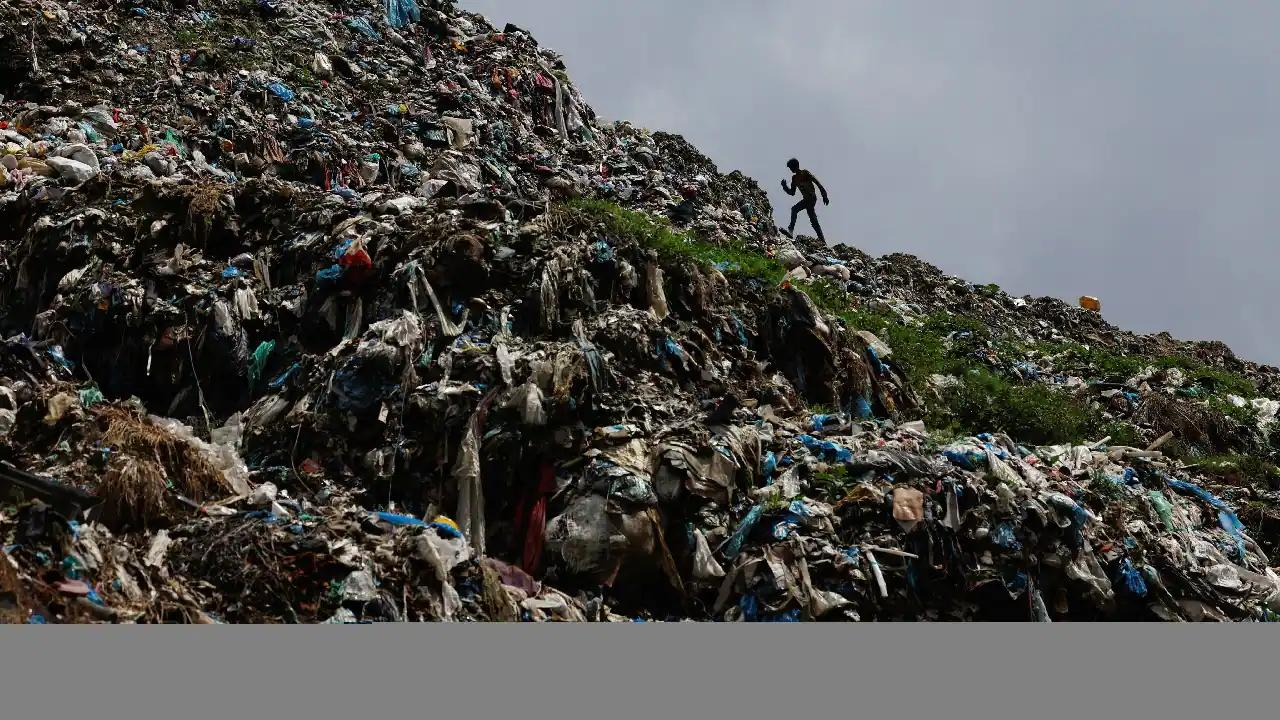garbage: (1, 0, 1280, 620)
